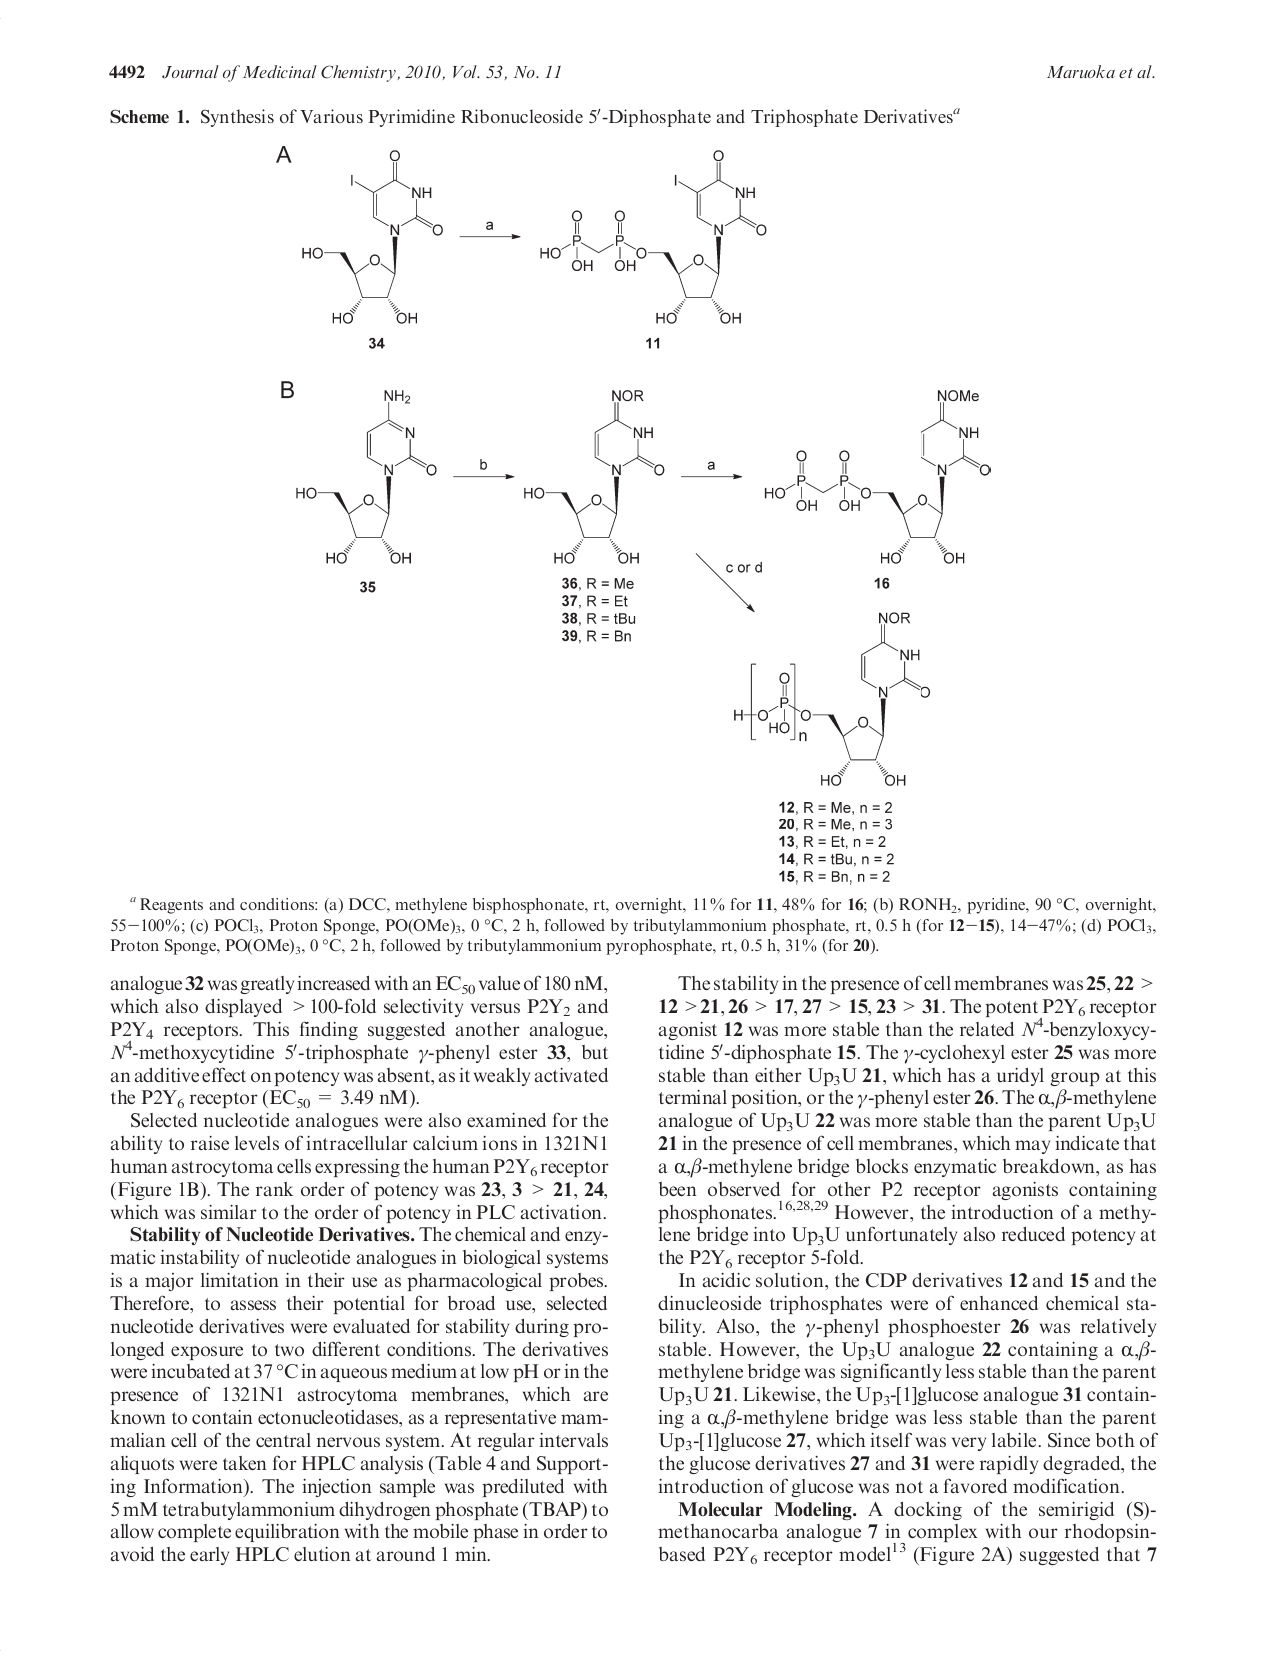exist_molecular: (761, 379, 996, 567), (539, 146, 771, 328), (731, 609, 932, 786), (519, 384, 668, 567), (294, 384, 442, 567), (301, 148, 444, 326)
